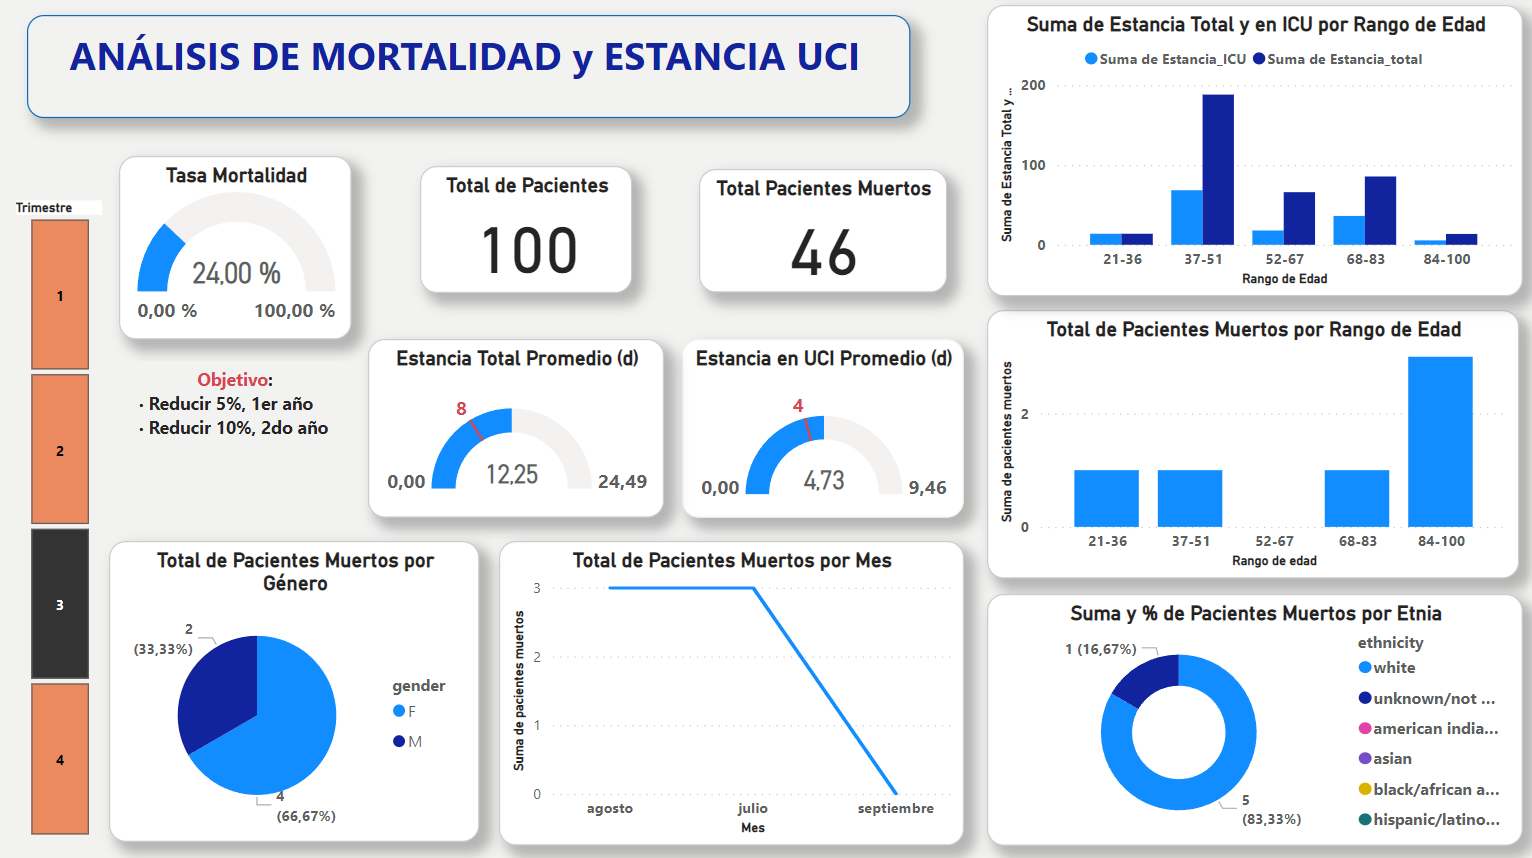

The page's visual inventory and layout, read from the dashboard file:
{"tool":"powerbi","page":{"name":"MORTALIDAD","canvas":[1280,720],"ordinal":0},"visuals":[{"type":"clusteredColumnChart","title":"Total de Pacientes Muertos por Rango de Edad","fields":{"Category":["KPI_LOS_MORTALIDAD.range_age"],"Y":["Sum(KPI_LOS_MORTALIDAD.hospital_expire_flag)"]},"box":[823.9,261.6,443.7,223.7],"z":0},{"type":"donutChart","title":"Suma y %  de Pacientes Muertos por Etnia","fields":{"Category":["KPI_LOS_MORTALIDAD.ethnicity"],"Y":["Sum(KPI_LOS_MORTALIDAD.dead_patients)"]},"box":[823.9,498.7,447.4,210.3],"z":1000},{"type":"gauge","title":"Estancia en UCI Promedio (d)","fields":{"Y":["Avg(KPI_LOS_MORTALIDAD.Estancia_ICU)"],"TargetValue":["KPI_LOS_MORTALIDAD.KPI_E_uci"]},"box":[569.6,286,234.7,149.1],"z":2000},{"type":"slicer","fields":{"Values":["KPI_LOS_MORTALIDAD.Trimestre"]},"box":[0,163.8,100.2,541.5],"z":3000},{"type":"clusteredColumnChart","title":"Suma de Estancia Total y en ICU por Rango de Edad","fields":{"Category":["KPI_LOS_MORTALIDAD.range_age"],"Y":["Sum(KPI_LOS_MORTALIDAD.los_ICU)","Sum(KPI_LOS_MORTALIDAD.los_total)"]},"box":[823.9,7.3,447.4,243.3],"z":4000},{"type":"pieChart","title":"Total de Pacientes Muertos por Género","fields":{"Category":["KPI_LOS_MORTALIDAD.gender"],"Y":["Sum(KPI_LOS_MORTALIDAD.dead_patients)"]},"box":[91.7,454.7,309.3,250.6],"z":5000},{"type":"card","title":"Total Pacientes Muertos","fields":{"Values":["Sum(KPI_MV.dead_patients)"]},"box":[584.3,144.2,206.6,102.7],"z":6000},{"type":"gauge","title":"Estancia Total Promedio (d)","fields":{"Y":["Avg(KPI_LOS_MORTALIDAD.los_total)"],"TargetValue":["KPI_INFECCION.KPI_E-T"]},"box":[308,286,246.9,149.1],"z":7000},{"type":"lineChart","title":"Total de Pacientes Muertos por Mes","fields":{"Y":["Sum(KPI_LOS_MORTALIDAD.dead_patients)"],"Category":["KPI_LOS_MORTALIDAD.Nombre del mes"]},"box":[416.8,454.7,387.5,254.3],"z":8000},{"type":"gauge","fields":{"Y":["KPI_LOS_MORTALIDAD.Tasa Mortalidad"]},"box":[100.2,133.2,194.4,152.8],"z":9000},{"type":"textbox","box":[23.2,15.9,737.1,85.6],"z":10000},{"type":"card","title":"Total de Pacientes","fields":{"Values":["Count(KPI_MV.subject_id)"]},"box":[350.8,141.8,177.2,106.3],"z":11000},{"type":"textbox","box":[101.5,304.4,194.4,80.7],"z":12000}]}

Visuals, with their boxes in screenshot pixels (x1, y1, x2, y2), scaled from the page's 1280x720 canvas onto the 1532x858 screenshot:
"Total de Pacientes Muertos por Rango de Edad" clusteredColumnChart: Rect(986, 312, 1517, 578)
"Suma y %  de Pacientes Muertos por Etnia" donutChart: Rect(986, 594, 1522, 845)
"Estancia en UCI Promedio (d)" gauge: Rect(682, 341, 963, 518)
slicer - KPI_LOS_MORTALIDAD.Trimestre: Rect(0, 195, 120, 840)
"Suma de Estancia Total y en ICU por Rango de Edad" clusteredColumnChart: Rect(986, 9, 1522, 299)
"Total de Pacientes Muertos por Género" pieChart: Rect(110, 542, 480, 840)
"Total Pacientes Muertos" card: Rect(699, 172, 947, 294)
"Estancia Total Promedio (d)" gauge: Rect(369, 341, 664, 518)
"Total de Pacientes Muertos por Mes" lineChart: Rect(499, 542, 963, 845)
gauge - KPI_LOS_MORTALIDAD.Tasa Mortalidad: Rect(120, 159, 353, 341)
textbox: Rect(28, 19, 910, 121)
"Total de Pacientes" card: Rect(420, 169, 632, 296)
textbox: Rect(121, 363, 354, 459)
